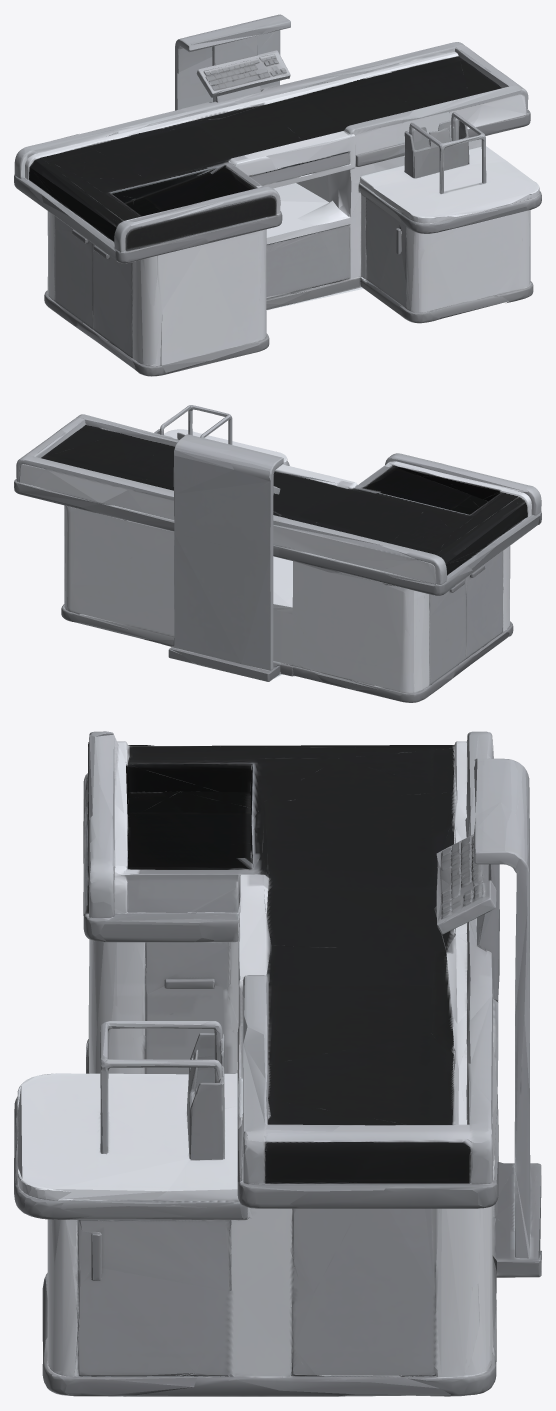
File: SM_CheckoutCounter.fbx
3 views of the same model, one above another, from view 1: azimuth 30°, elevation 25°; view 2: azimuth 150°, elevation 25°; view 3: azimuth 270°, elevation 25° (orthographic). The views are drawn at different scales.
Visible parts, largest first — view 1: SM_CheckoutCounter_LOD0; view 2: SM_CheckoutCounter_LOD0; view 3: SM_CheckoutCounter_LOD0.
Boxes of the visible parts, bbox=[...] form: SM_CheckoutCounter_LOD0: bbox=[14, 14, 541, 376]; SM_CheckoutCounter_LOD0: bbox=[14, 405, 541, 702]; SM_CheckoutCounter_LOD0: bbox=[14, 731, 541, 1396].
Size of what is drawn, in the model's own units: 220 by 117 by 104.
